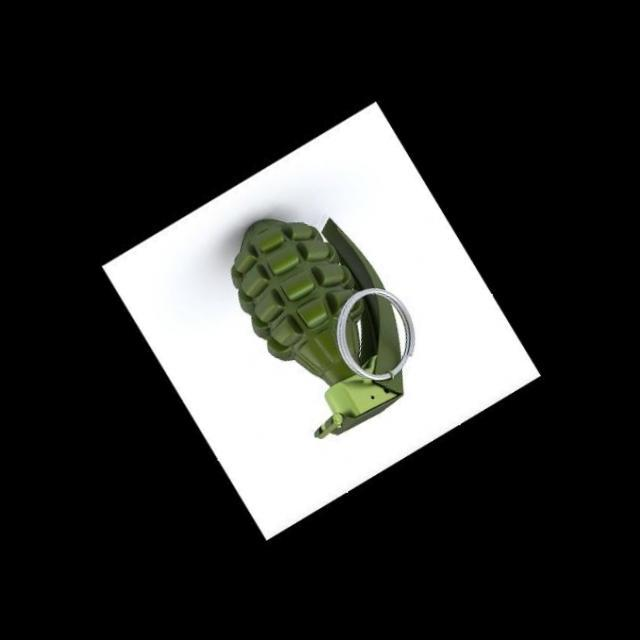grenade: (196, 198, 439, 454)
